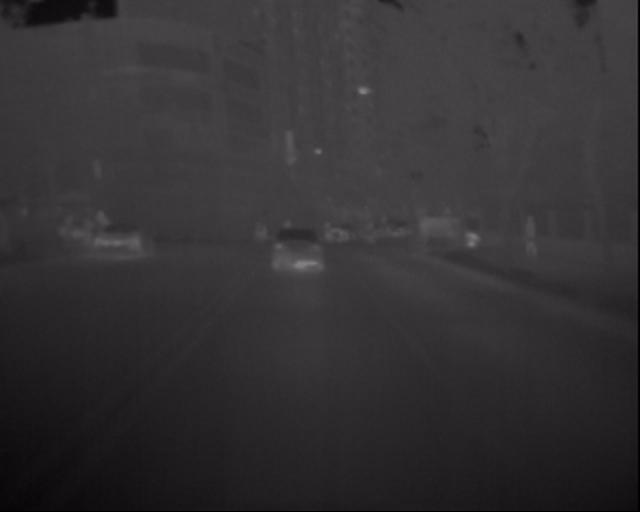person: (33, 205, 131, 251), (519, 210, 546, 266)
